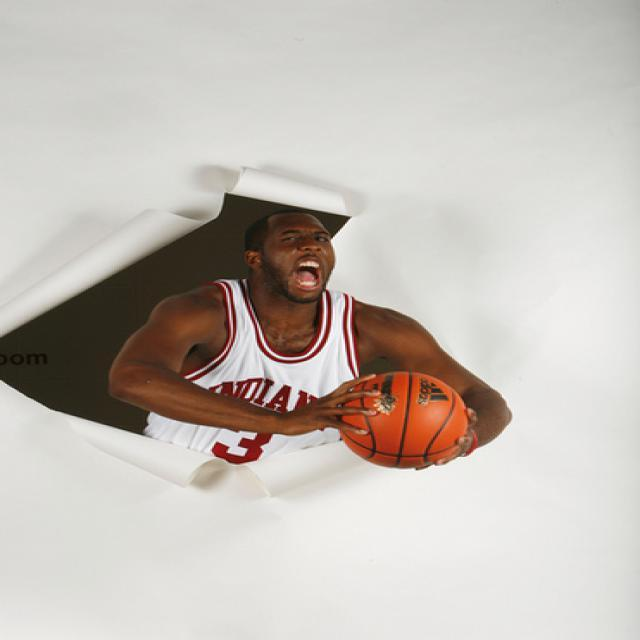basketball: (336, 372, 469, 469)
